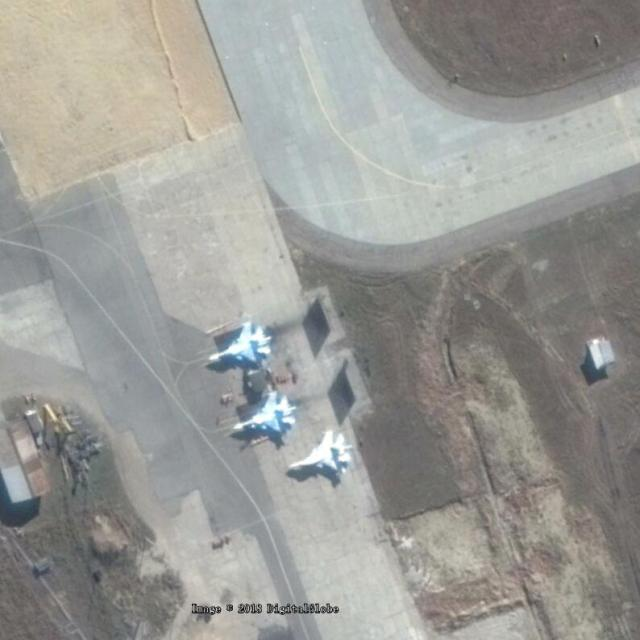fighter jet: (292, 428, 355, 482), (207, 318, 270, 364), (232, 388, 290, 436)
